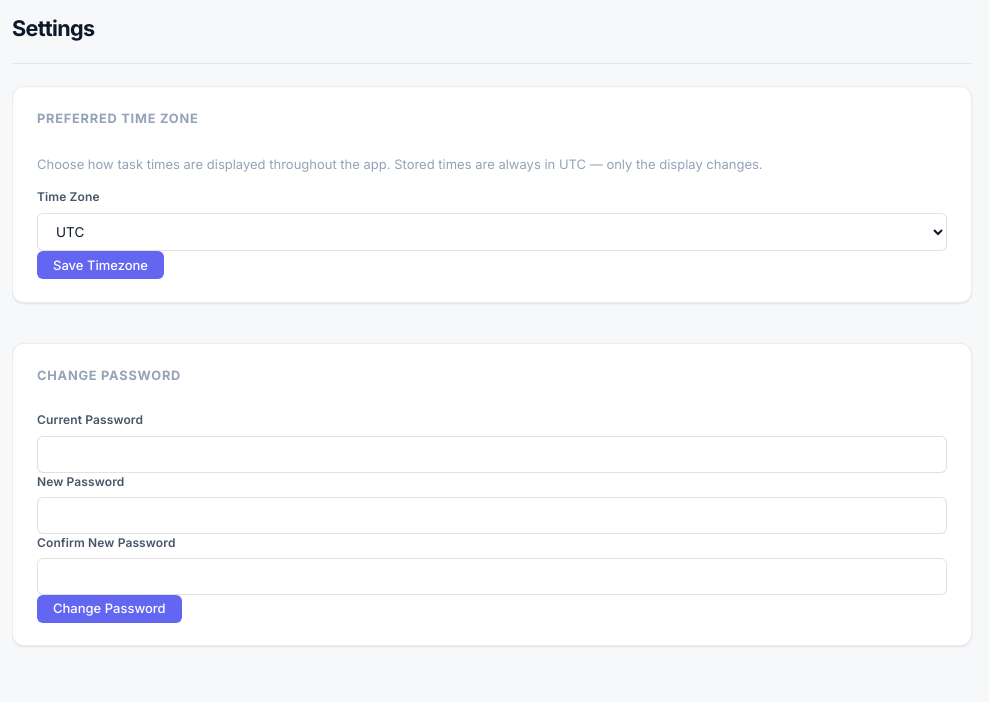
Test: SettingsPage — Timezone selector › shows success message after saving timezone
Select "Asia/Tokyo" in the dropdown with test id "timezone-select" at (492, 232), box x1=37 y1=213 x2=947 y2=251
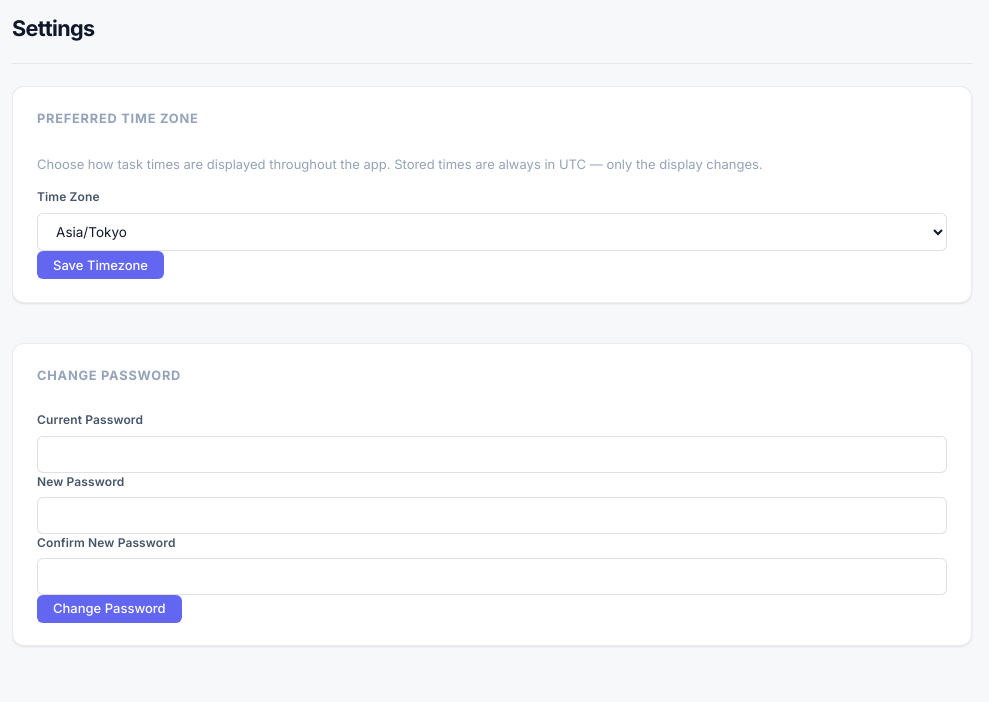
Click the button with test id "timezone-submit-btn" at (100, 265), box x1=37 y1=251 x2=164 y2=279
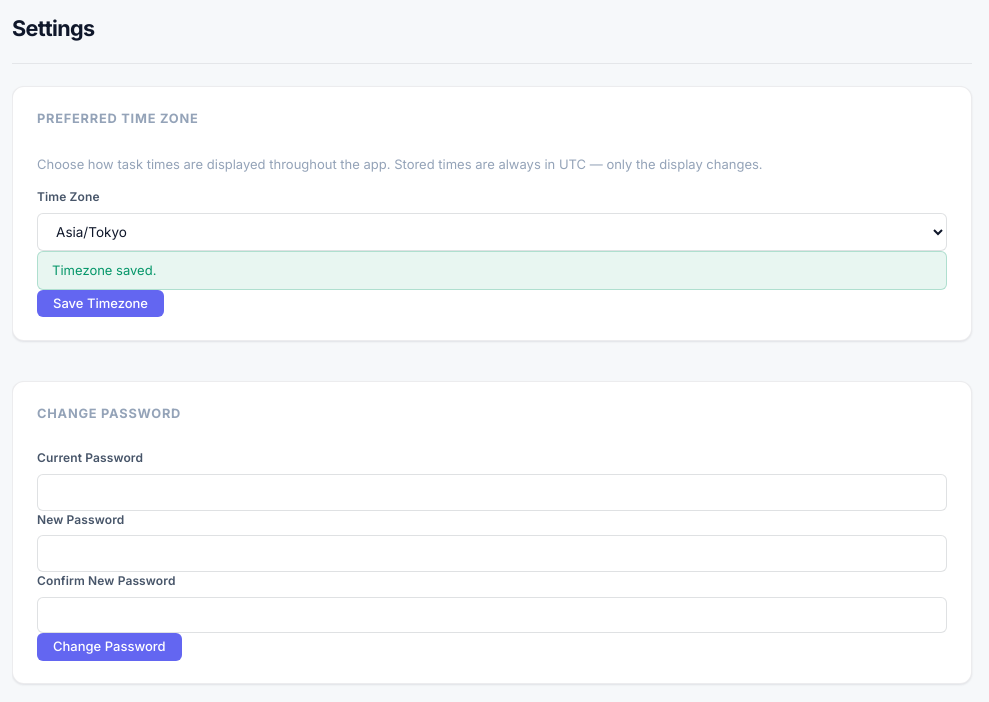
Now the text "Timezone saved." is shown, box x1=37 y1=251 x2=947 y2=290
